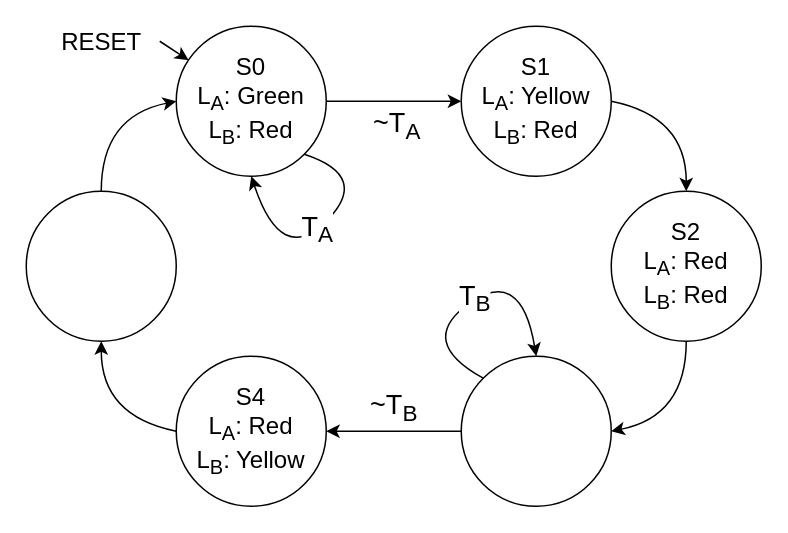
This 788x533 diagram has some shape labels left out. Each missing label, with the box of its shape:
S3 L A : Red L B : Green: (460, 355, 611, 506)
S5 L A : Red L B : Red: (25, 190, 176, 341)
